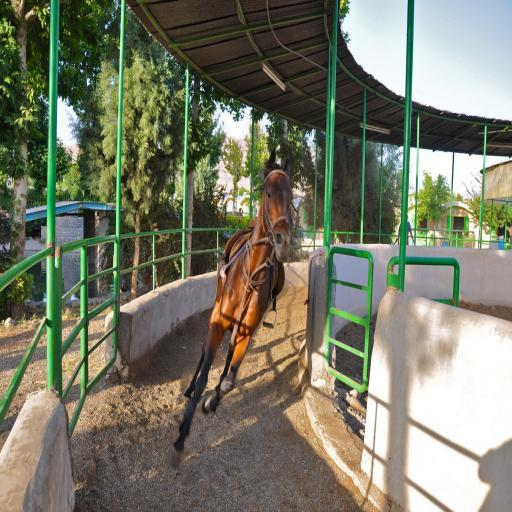Horse: (169, 148, 294, 470)
